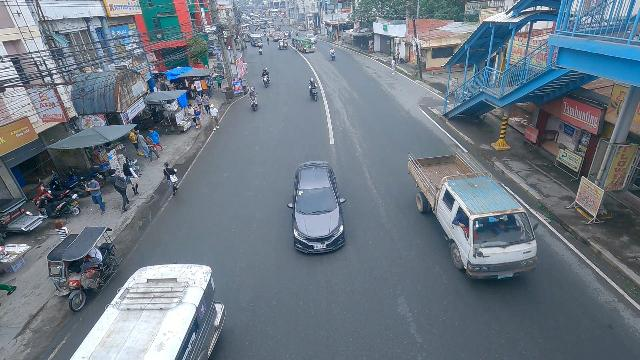car: (286, 159, 347, 257), (305, 33, 316, 43)
jeepney: (294, 37, 316, 53), (248, 33, 263, 47)
motorcycle: (308, 78, 319, 102), (249, 87, 259, 113), (261, 67, 271, 89), (328, 46, 336, 62), (258, 46, 263, 54), (263, 29, 267, 36), (296, 32, 299, 38)
